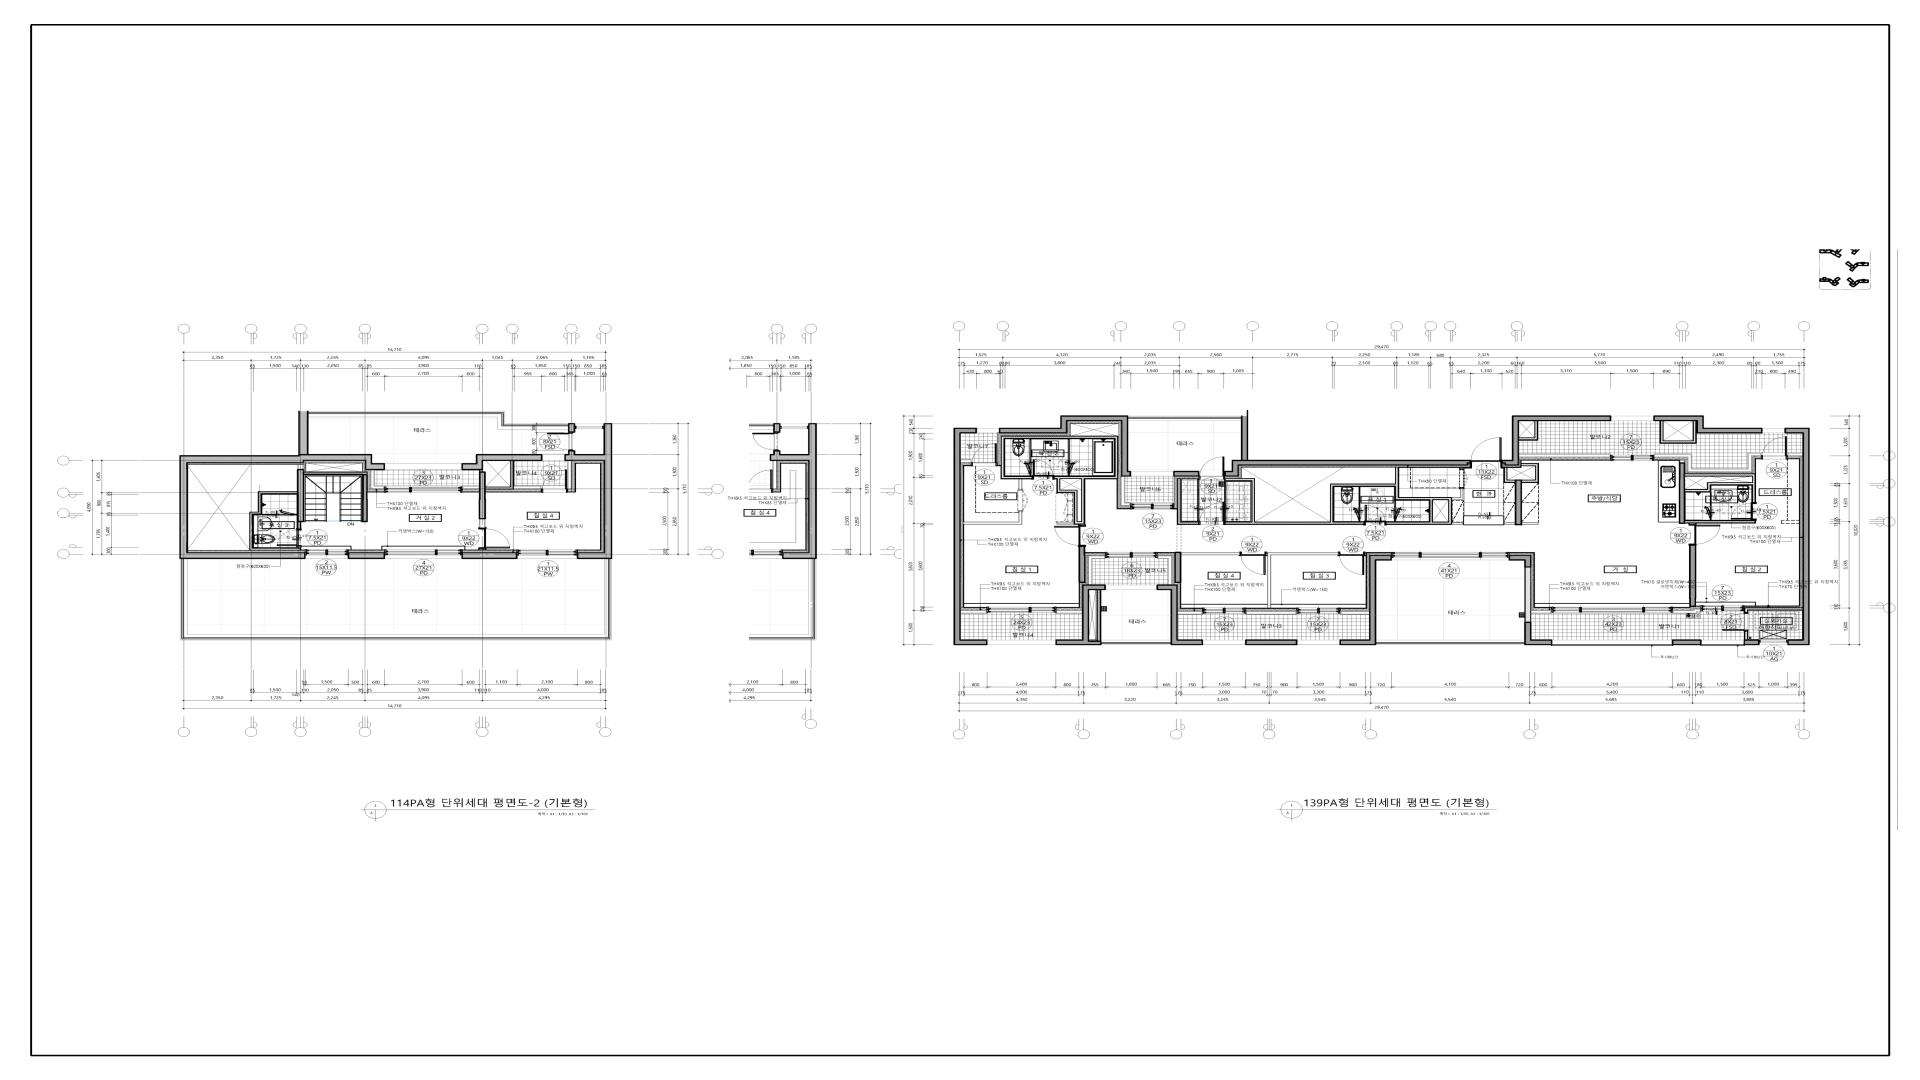door: (1471, 437, 1502, 469), (478, 528, 510, 550), (1054, 525, 1086, 547), (1689, 524, 1721, 546), (1762, 436, 1788, 460), (541, 469, 567, 493), (1199, 456, 1225, 480), (1240, 552, 1267, 575), (1339, 552, 1366, 575), (971, 443, 997, 466), (1199, 502, 1225, 525), (1722, 612, 1749, 631), (1032, 459, 1055, 480), (1731, 502, 1757, 520), (1364, 505, 1386, 526), (277, 529, 302, 547), (547, 433, 573, 450), (1018, 491, 1028, 511)
wall: (180, 559, 612, 640), (179, 411, 385, 559), (1224, 416, 1470, 477), (1224, 467, 1464, 525), (1001, 436, 1119, 525), (999, 415, 1131, 477), (954, 428, 987, 645), (564, 423, 612, 559), (1502, 415, 1611, 466), (1785, 428, 1810, 645), (1340, 555, 1392, 645), (309, 411, 568, 429), (1268, 552, 1339, 608), (249, 491, 301, 551), (1056, 584, 1106, 645), (1157, 585, 1203, 645), (1654, 415, 1763, 434), (1685, 473, 1756, 502), (1654, 453, 1761, 472), (486, 461, 541, 490), (1524, 568, 1552, 622), (462, 454, 543, 470), (1177, 479, 1199, 525), (1660, 421, 1697, 444), (963, 511, 1022, 525), (1377, 640, 1524, 645), (1524, 622, 1552, 645), (1128, 416, 1241, 421), (1088, 555, 1105, 584), (1689, 546, 1696, 607), (1157, 556, 1172, 584), (462, 552, 518, 559), (1519, 421, 1538, 441), (1679, 462, 1685, 524), (297, 469, 304, 522), (1521, 463, 1539, 483), (1102, 640, 1170, 645), (479, 472, 486, 519), (1515, 480, 1522, 525), (1245, 639, 1297, 645), (1509, 555, 1532, 568), (1078, 547, 1086, 583), (362, 474, 368, 522), (370, 470, 385, 489), (1745, 607, 1802, 612), (1686, 520, 1756, 524), (1519, 454, 1611, 457), (1121, 477, 1130, 506), (348, 552, 385, 559), (1174, 552, 1182, 583), (1097, 590, 1101, 641), (1246, 611, 1297, 615), (304, 472, 368, 475), (1503, 468, 1515, 483), (1182, 552, 1240, 555), (1173, 471, 1199, 477), (1672, 640, 1702, 645), (1673, 609, 1701, 614), (567, 461, 572, 489), (1340, 611, 1369, 615), (1056, 610, 1082, 614), (961, 610, 987, 614), (1744, 639, 1760, 645), (1178, 611, 1202, 615), (568, 423, 575, 433), (462, 486, 479, 489), (1522, 522, 1539, 525), (480, 519, 485, 528), (1788, 453, 1802, 456), (961, 459, 971, 463), (1659, 521, 1679, 523), (1504, 522, 1515, 525), (1744, 631, 1748, 639), (297, 522, 301, 529), (298, 465, 304, 469), (1680, 460, 1684, 462)
window: (1392, 552, 1509, 560), (1552, 607, 1673, 614), (1552, 640, 1672, 646), (385, 549, 461, 558), (518, 549, 577, 559), (385, 486, 462, 493), (385, 464, 461, 470), (987, 607, 1056, 613), (306, 549, 348, 558), (988, 640, 1055, 645), (1105, 552, 1157, 558), (1131, 503, 1174, 510), (1701, 605, 1744, 611), (1203, 608, 1246, 614), (1297, 608, 1340, 614), (1611, 455, 1654, 461), (1106, 585, 1157, 590), (1702, 640, 1744, 646), (1611, 416, 1653, 421), (1203, 640, 1245, 645), (1298, 640, 1340, 645), (1131, 472, 1173, 476), (575, 424, 604, 429), (1760, 640, 1788, 645), (543, 455, 564, 461), (977, 428, 999, 433), (1763, 428, 1784, 433)
